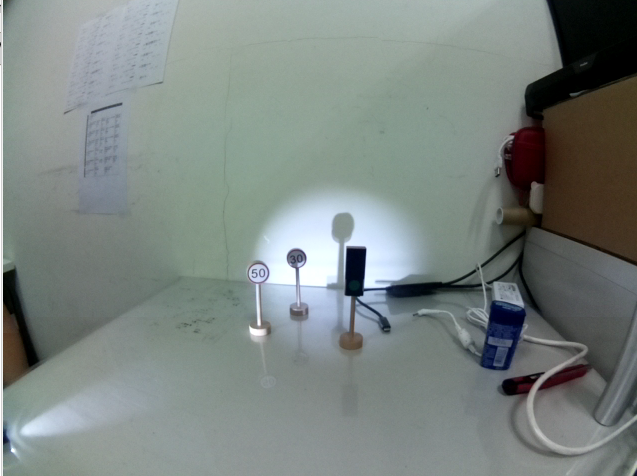Green: (341, 243, 370, 306)
Speed30: (286, 247, 310, 272)
Speed50: (246, 259, 272, 287)
